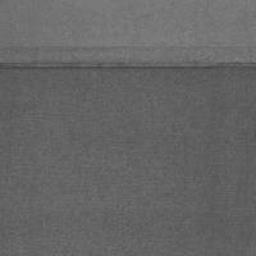Welding line: (0, 60, 256, 73)
